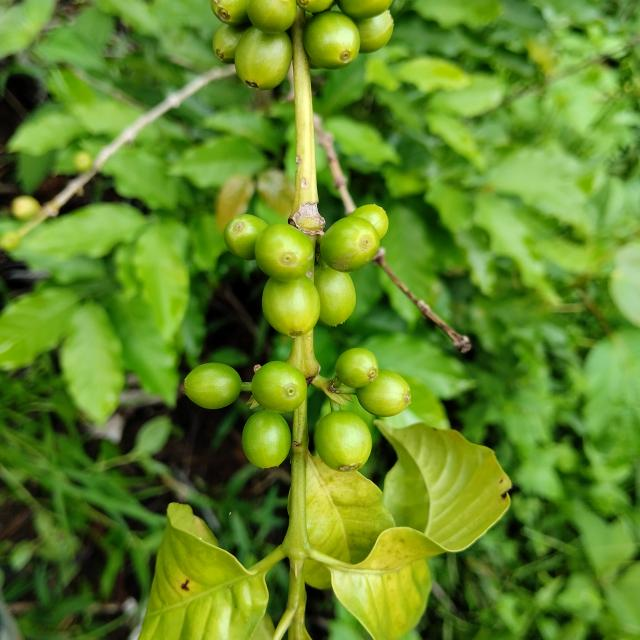green: (234, 25, 292, 89), (262, 276, 321, 338), (314, 410, 372, 472), (254, 224, 314, 281), (303, 10, 361, 68), (320, 216, 380, 272), (251, 361, 307, 413), (242, 410, 291, 469), (184, 363, 241, 409), (356, 370, 411, 417), (314, 266, 356, 326), (223, 214, 268, 260), (335, 348, 379, 388), (355, 9, 394, 52), (246, 0, 296, 33), (212, 21, 250, 63), (349, 204, 389, 239), (210, 0, 249, 24)
